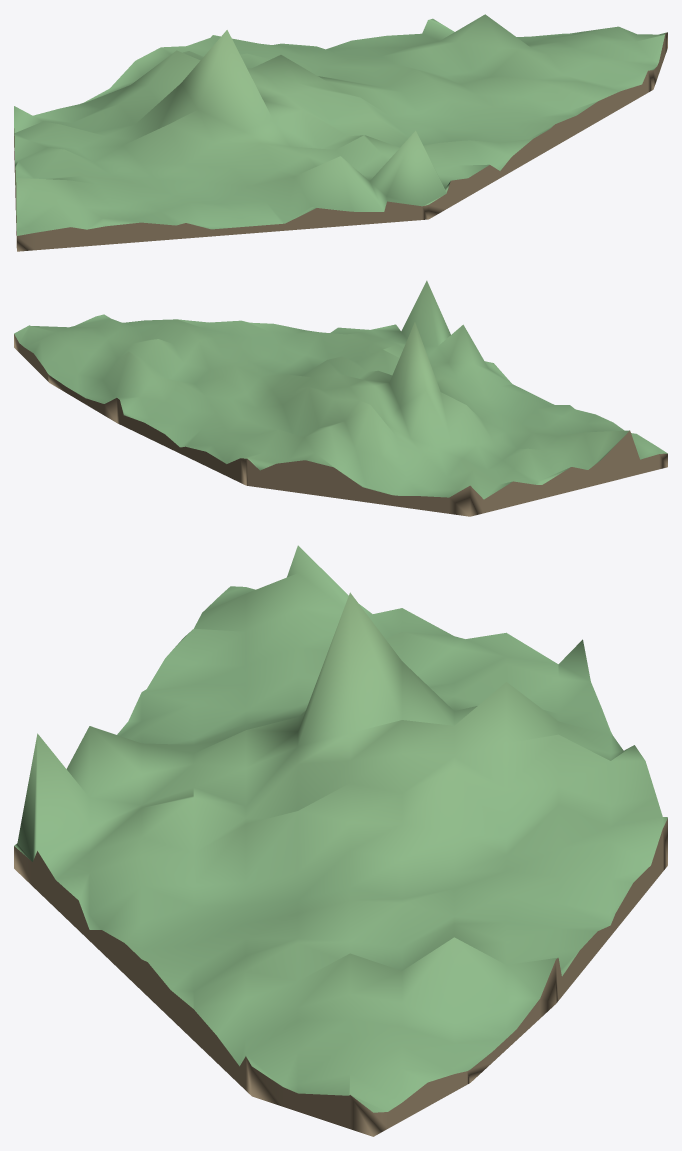
File: SGP.glb
3 renders of one model, top to bottom at view 1: azimuth 30°, elevation 25°; view 2: azimuth 150°, elevation 25°; view 3: azimuth 270°, elevation 25°, orthographic. The views are drawn at different scales.
Visible parts, largest first — view 1: SGP; view 2: SGP; view 3: SGP.
Boxes of the visible parts, x1,y1,x2,y2 form: SGP: (14, 14, 667, 251); SGP: (14, 280, 667, 516); SGP: (14, 545, 667, 1136).
Size of the model in its own units: 1.85 by 0.338 by 0.9718.
